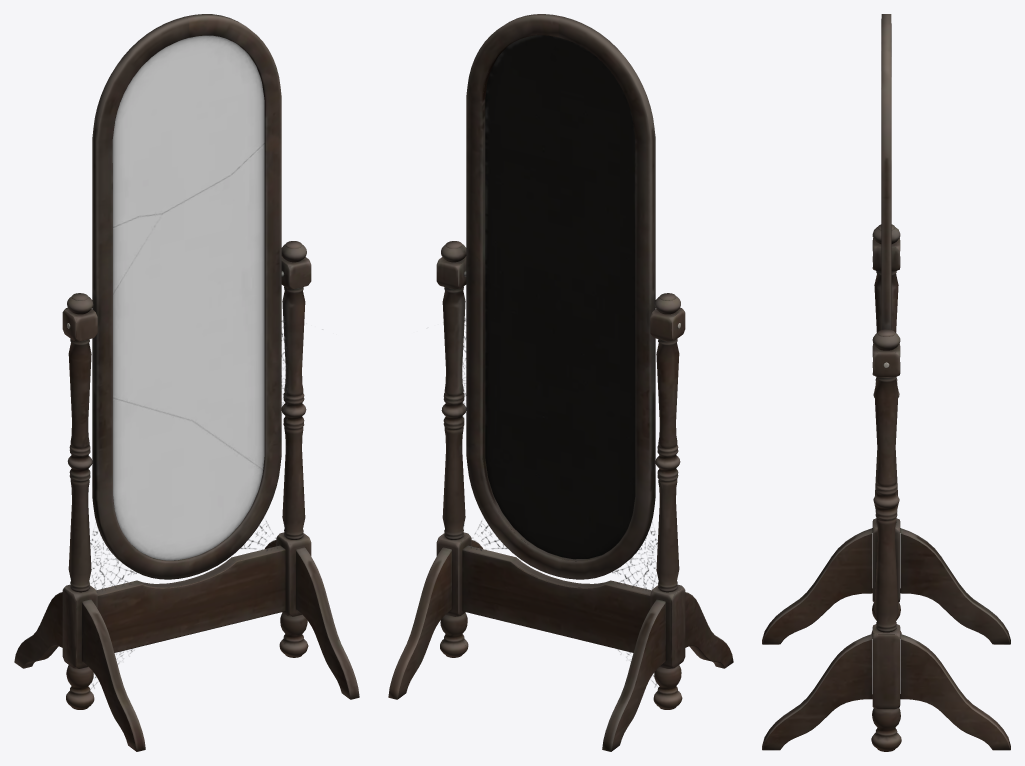
The model's file is vict_dusty_antique_mirror__free.glb.
The picture shows the model from 3 angles, left to right: view 1: azimuth 30°, elevation 25°; view 2: azimuth 150°, elevation 25°; view 3: azimuth 270°, elevation 25°; orthographic projection.
Visible parts, largest first — view 1: antique_standing_mirror_antique_standing_mirror_Mat_0; view 2: antique_standing_mirror_antique_standing_mirror_Mat_0; view 3: antique_standing_mirror_antique_standing_mirror_Mat_0.
Part boxes in pixels (box(x1,y1,x2,y2)): antique_standing_mirror_antique_standing_mirror_Mat_0: box(14, 14, 359, 751); antique_standing_mirror_antique_standing_mirror_Mat_0: box(388, 14, 733, 751); antique_standing_mirror_antique_standing_mirror_Mat_0: box(762, 14, 1010, 751).
Size of the model in its own units: 0.7834 by 1.7 by 0.5491.
1 material, 1 textured.
